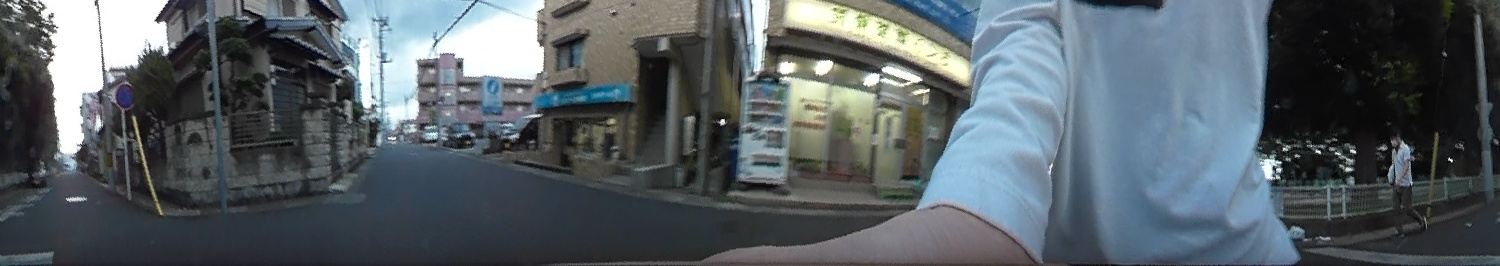person: (1386, 124, 1430, 242)
